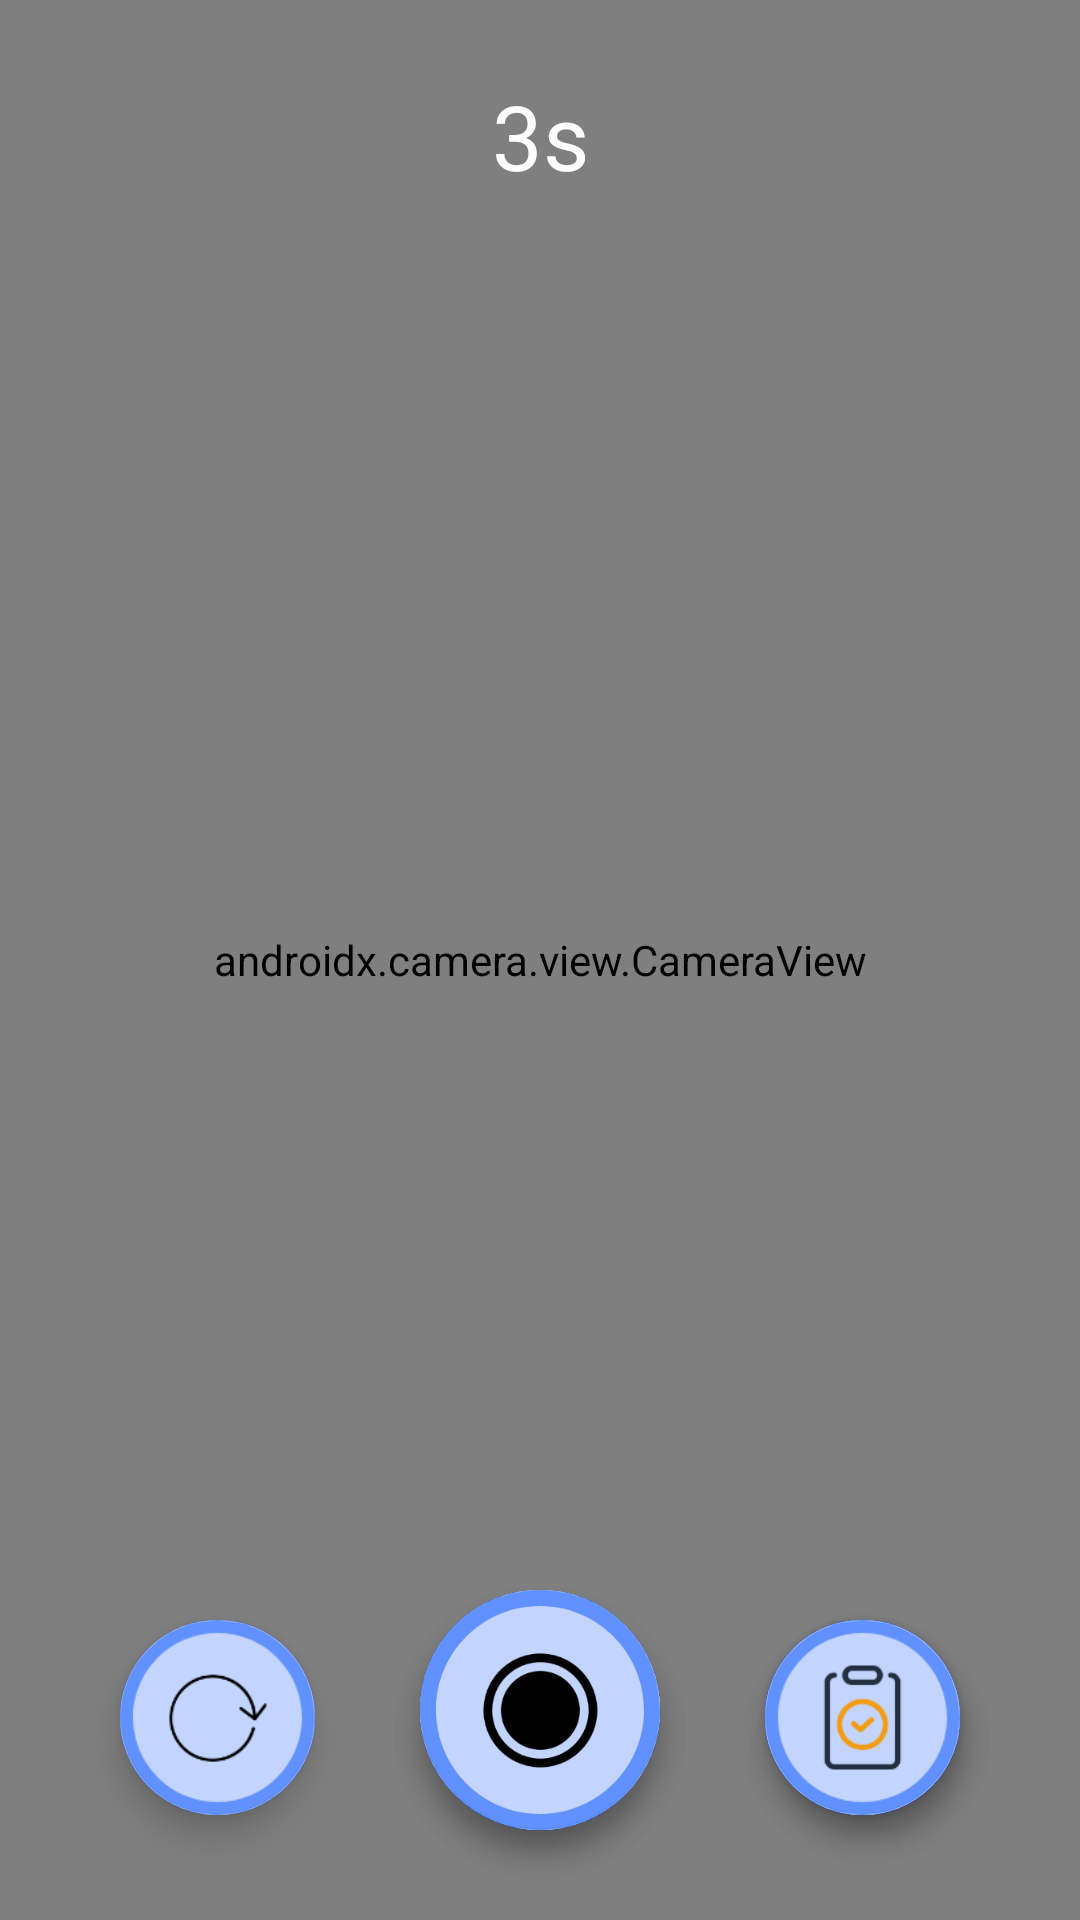

Named icons in this screenshot (1080px x 1920px) and their bounding boxes, (x1, y1, x2, y2):
reset: (120, 1620, 315, 1815)
